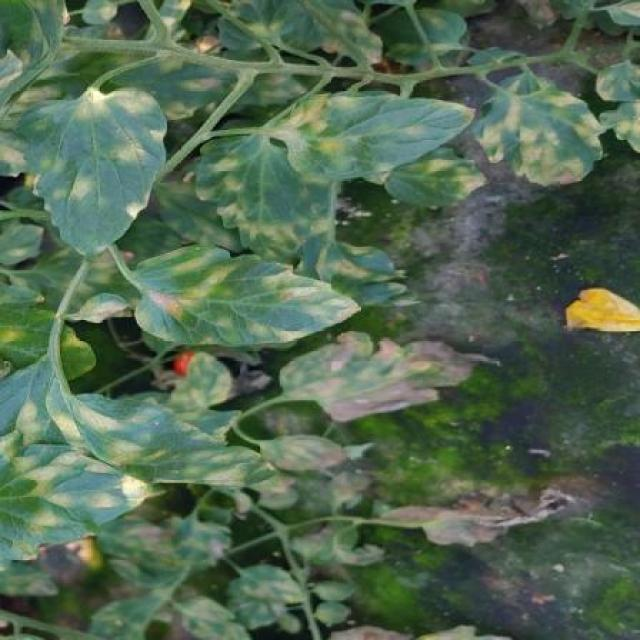Leaf Mold: (0, 356, 279, 488), (16, 88, 168, 261), (0, 427, 167, 574), (133, 246, 360, 350), (278, 331, 502, 423), (195, 133, 331, 263), (283, 91, 478, 179), (476, 81, 607, 189)
